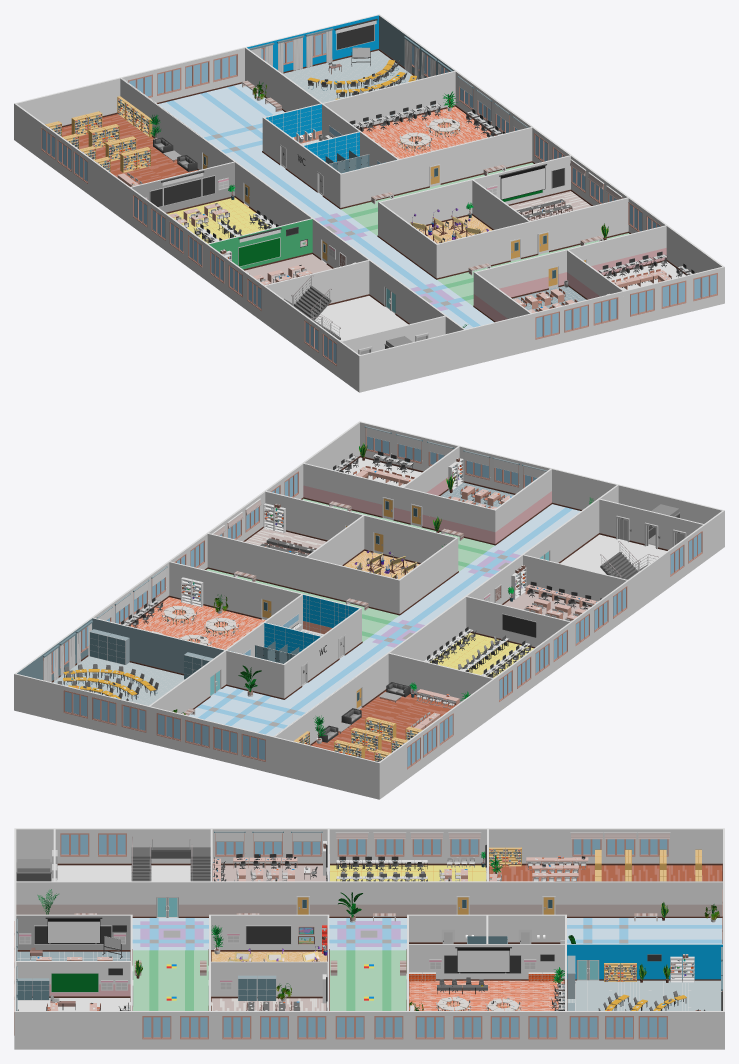
File: school001-transformed.glb
3 views of the same model, one above another, from view 1: azimuth 30°, elevation 25°; view 2: azimuth 150°, elevation 25°; view 3: azimuth 270°, elevation 25° (orthographic). The views are drawn at different scales.
Visible parts, largest first — view 1: Walls_006.222, Walls_006.259, Walls_006.190, Walls_006.269, Walls_006.252, Walls_006.202, Walls_006.156, Walls_006.266, Walls_006.263, Walls_006.323, Walls_006.281, Walls_006.267 (+53 smaller); view 2: Walls_006.259, Walls_006.156, Walls_006.222, Walls_116.008, Walls_006.269, Walls_006.283, Walls_006.323, Walls_006.324, Walls_006.202, Walls_006.266, floor_032.002, Walls_006.267 (+50 smaller); view 3: Walls_006.224, Walls_006.230, Walls_006.278, Walls_006.308, Walls_006.314, Walls_006.260, Walls_075.010, Walls_006.257, Walls_006.267, Walls_006.311, Walls_006.201, floor_033.001 (+104 smaller).
Part boxes in pixels (x1,y1,x2,y2): Walls_006.222: (360,312,535,390); Walls_006.259: (378,155,570,235); Walls_006.190: (323,71,455,128); Walls_006.269: (439,127,532,183); Walls_006.252: (339,152,430,207); Walls_006.202: (264,296,464,392); Walls_006.156: (14,77,120,138); Walls_006.266: (548,197,628,250); Walls_006.263: (435,226,510,278); Walls_006.323: (265,260,369,303); Walls_006.281: (120,78,202,169); Walls_006.267: (379,202,436,277); Walls_006.259: (207,533,400,613); Walls_006.156: (273,736,380,797); Walls_006.222: (548,467,722,523); Walls_116.008: (92,618,224,673); Walls_006.269: (169,561,261,617); Walls_006.283: (388,653,492,703); Walls_006.323: (523,554,627,605); Walls_006.324: (466,596,569,647); Walls_006.202: (560,534,724,616); Walls_006.266: (265,491,345,540); floor_032.002: (194,686,283,727); Walls_006.267: (399,538,457,612); Walls_006.224: (14,1011,142,1047); Walls_006.230: (142,1038,564,1047); Walls_006.278: (555,882,722,904); Walls_006.308: (309,882,457,904); Walls_006.314: (16,882,156,904); Walls_006.260: (211,961,327,996); Walls_075.010: (599,944,722,979); Walls_006.257: (409,944,564,979); Walls_006.267: (211,914,327,949); Walls_006.311: (179,882,297,904); Walls_006.201: (479,828,572,863); floor_033.001: (329,918,406,950).
Size of the model in its own units: 44.03 by 5.22 by 72.04.
1 material, 1 textured.
